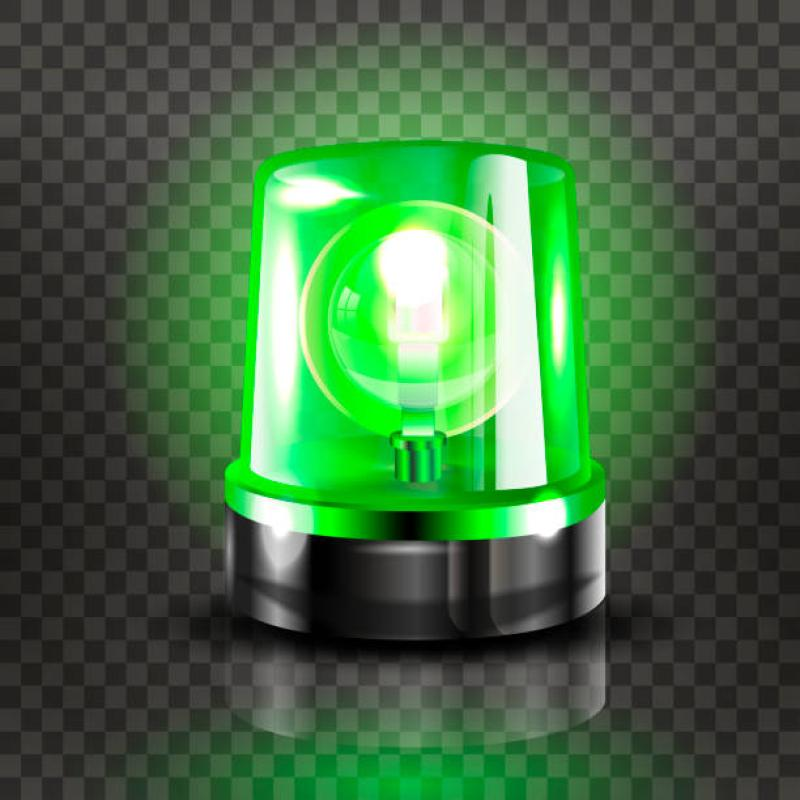AmbulanceSiren: (176, 99, 628, 684)
